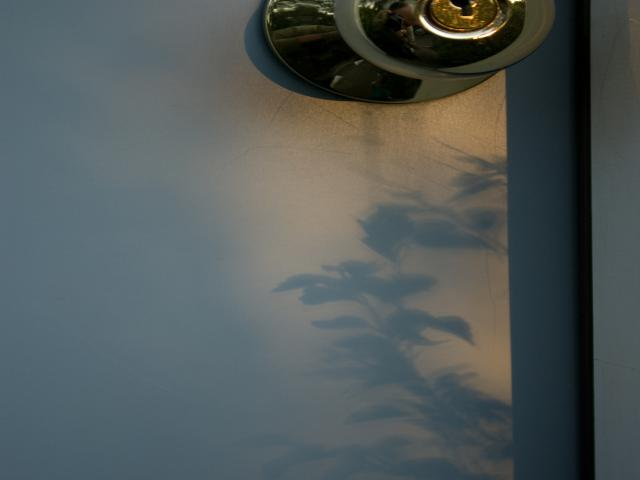Door-handle: (264, 0, 557, 103)
